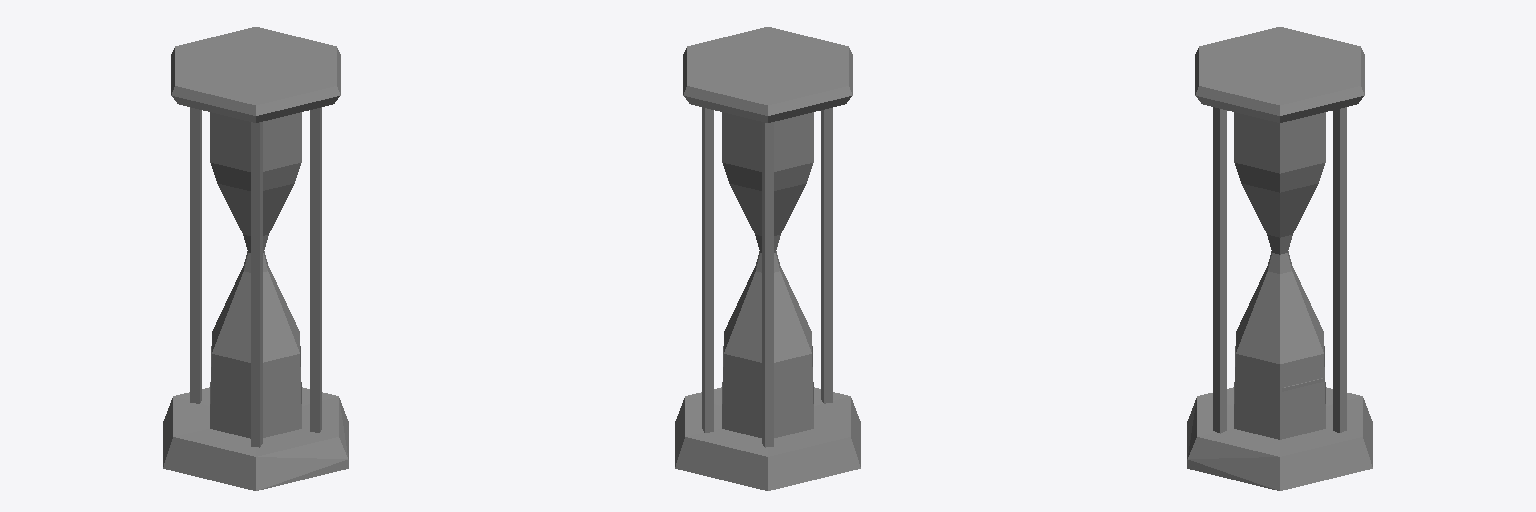
File: hourglass.obj
The picture shows the model from 3 angles: view 1: azimuth 30°, elevation 25°; view 2: azimuth 150°, elevation 25°; view 3: azimuth 270°, elevation 25°; orthographic projection.
Parts seen in each view (by area): view 1: sable04, sable03; view 2: sable04, sable03; view 3: sable04, sable03.
Boxes of the visible parts, box(x1,y1,x2,y2) form: sable04: box(163, 27, 348, 490); sable03: box(210, 112, 301, 438); sable04: box(675, 27, 860, 490); sable03: box(722, 112, 813, 437); sable04: box(1187, 27, 1372, 490); sable03: box(1234, 112, 1325, 439).
Size of the model in its own units: 21.71 by 42.29 by 18.8.